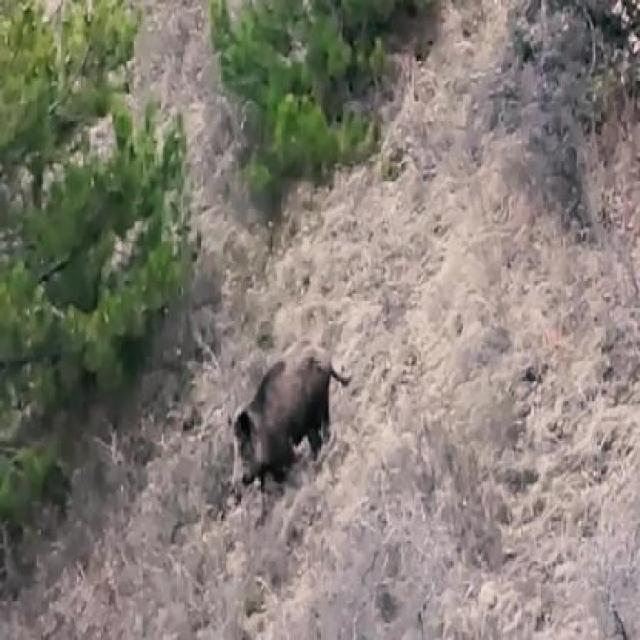Boar: (228, 334, 358, 520)
